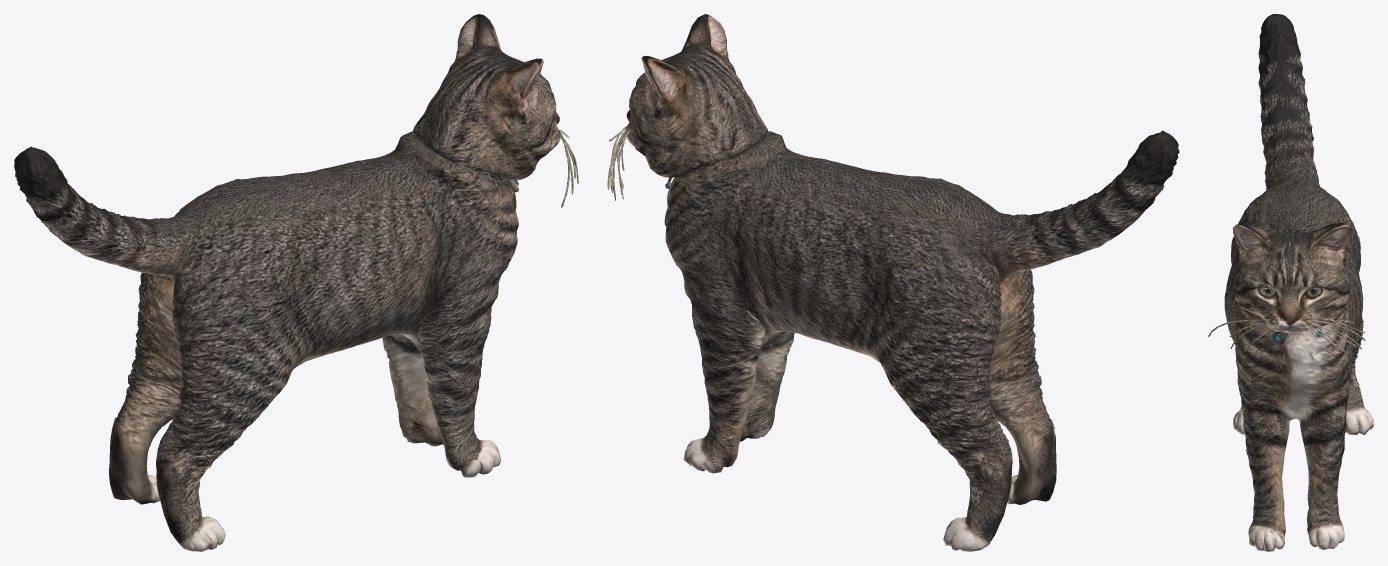
The model's file is THINKTHINK.glb.
3 views of the same model, side by side, from view 1: azimuth 30°, elevation 25°; view 2: azimuth 150°, elevation 25°; view 3: azimuth 270°, elevation 25° (orthographic). The views are drawn at different scales.
Visible parts, largest first — view 1: tripo_node_3aff749a-fc1e-433d-91e1-e513fbf3a229; view 2: tripo_node_3aff749a-fc1e-433d-91e1-e513fbf3a229; view 3: tripo_node_3aff749a-fc1e-433d-91e1-e513fbf3a229.
Part boxes in pixels (bbox=[...]): tripo_node_3aff749a-fc1e-433d-91e1-e513fbf3a229: bbox=[14, 14, 578, 551]; tripo_node_3aff749a-fc1e-433d-91e1-e513fbf3a229: bbox=[607, 14, 1179, 551]; tripo_node_3aff749a-fc1e-433d-91e1-e513fbf3a229: bbox=[1208, 14, 1373, 551].
Bounding box in the file's own units: 1.37 × 0.9992 × 0.4262.
Materials: 1 (1 with a texture image).
